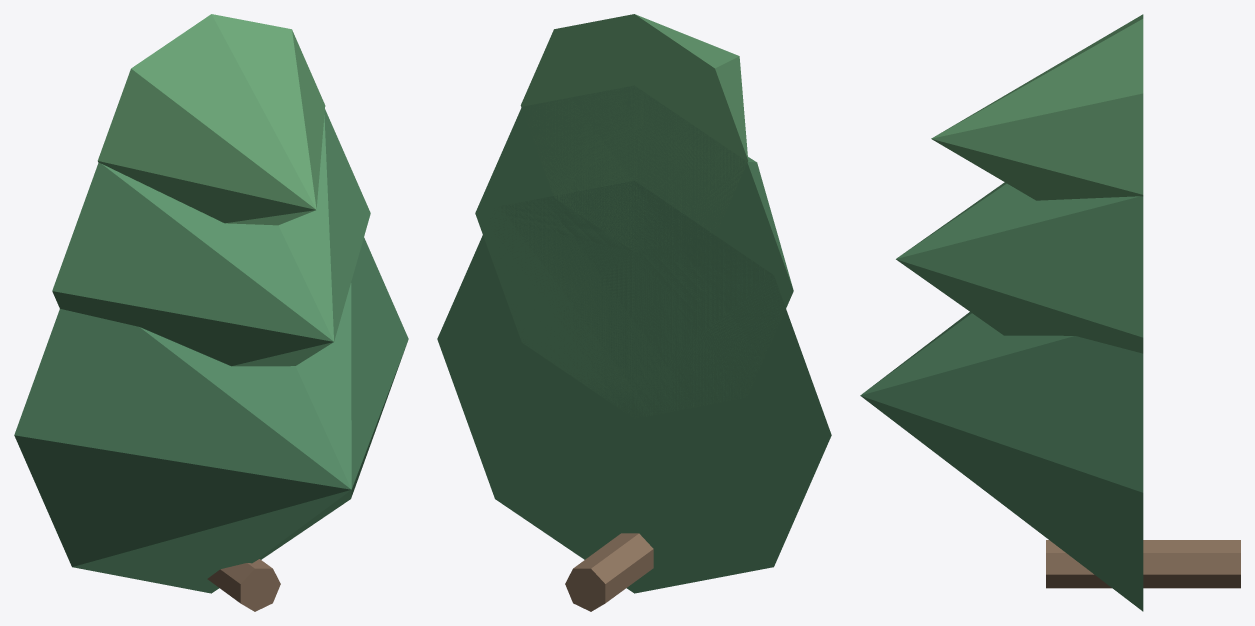
Rendered from tree_pine.glb.
3 views of the same model, side by side, from view 1: azimuth 30°, elevation 25°; view 2: azimuth 150°, elevation 25°; view 3: azimuth 270°, elevation 25° (orthographic).
Visible parts, largest first — view 1: tree_pine; view 2: tree_pine; view 3: tree_pine.
Boxes of the visible parts, x1,y1,x2,y2 form: tree_pine: [14, 14, 408, 611]; tree_pine: [437, 14, 831, 611]; tree_pine: [860, 14, 1240, 611].
Size of the model in its own units: 5.2 by 7.3 by 4.3.
